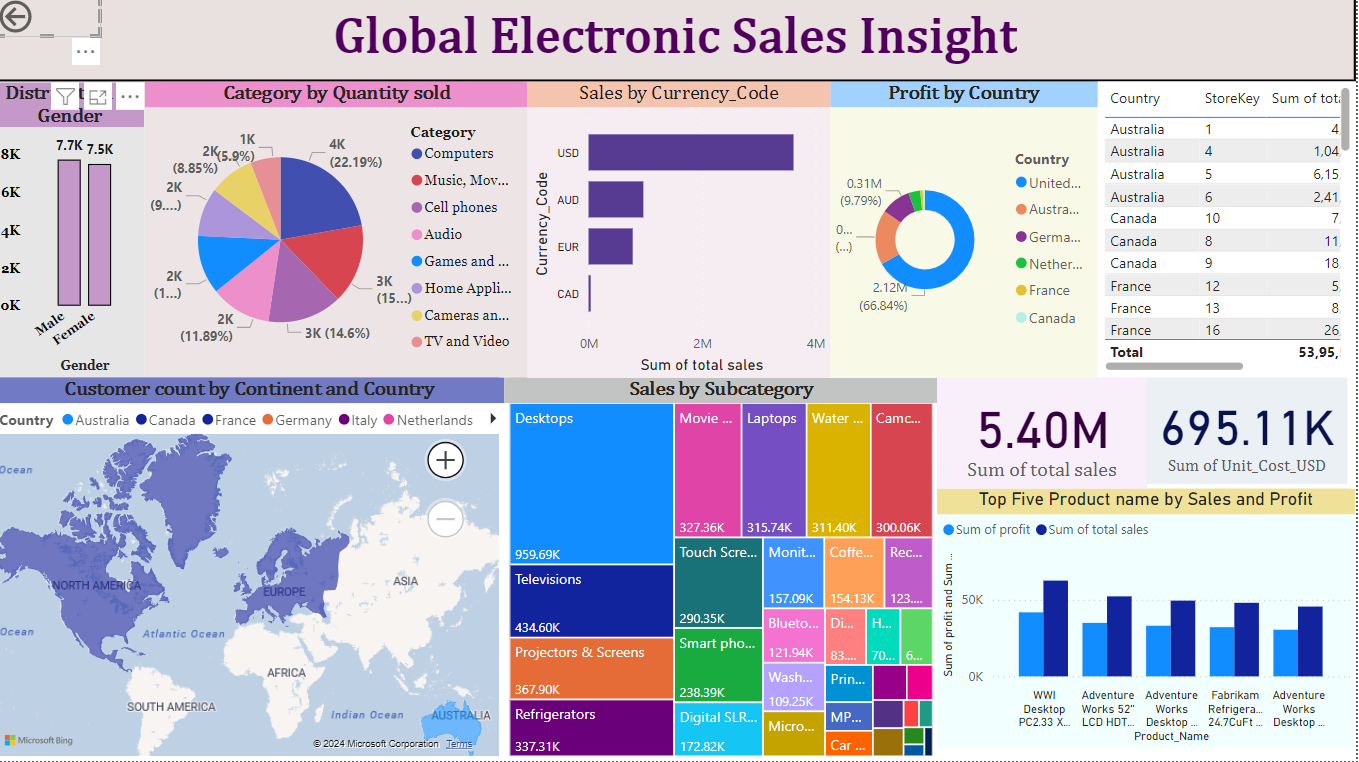

What the dashboard file says about the page in this screenshot:
{"tool":"powerbi","page":{"name":"Page 1","canvas":[1280,720],"ordinal":0},"visuals":[{"type":"columnChart","title":"Distribution of Gender  ","fields":{"Category":["cleaned_customers.Gender"],"Y":["cleaned_customers.count_gender"]},"box":[0,81.4,141.9,278.2],"z":0},{"type":"pieChart","title":" Category by Quantity sold","fields":{"Category":["merged_data1.Category"],"Y":["Sum(merged_data1.Quantity)"]},"box":[141.9,81.4,359.6,278.2],"z":1000},{"type":"treemap","title":"Sales by Subcategory","fields":{"Group":["merged_data1.Subcategory"],"Values":["Sum(merged_data1.total sales)"]},"box":[479.1,359.6,407.6,360.8],"z":2000},{"type":"filledMap","title":"Customer count by Continent and Country","fields":{"Category":["cleaned_customers.Continent"],"Series":["cleaned_customers.Country"]},"box":[0,359.6,479.5,360.7],"z":3000},{"type":"donutChart","title":"Profit by Country","fields":{"Category":["merged_data1.Country"],"Y":["Sum(merged_data1.profit)"]},"box":[785.7,81.3,252.5,278.3],"z":4000},{"type":"barChart","title":" Sales by Currency_Code","fields":{"Category":["merged_data1.Currency_Code"],"Y":["Sum(merged_data1.total sales)"]},"box":[501.2,81.3,284.5,278.3],"z":5000},{"type":"shape","box":[0,0,1280.2,81.4],"z":6000},{"type":"actionButton","box":[0,0,100,40],"z":7000},{"type":"clusteredColumnChart","title":"Top Five Product name by Sales and Profit","fields":{"Y":["Sum(merged_data1.profit)","Sum(merged_data1.total sales)"],"Category":["merged_data1.Product_Name"]},"box":[886.7,464.3,392.9,243.8],"z":8000},{"type":"tableEx","fields":{"Values":["merged_data1.Country","merged_data1.StoreKey","Sum(merged_data1.total sales)","Sum(merged_data1.Quantity)"]},"box":[1038.2,81.3,241.4,277.1],"z":9000},{"type":"card","fields":{"Values":["Sum(merged_data1.total sales)"]},"box":[886.7,359.6,197.1,104.7],"z":10000},{"type":"card","fields":{"Values":["Sum(merged_data1.Unit_Cost_USD)"]},"box":[1083.3,359.6,189.2,100.1],"z":11000}]}

Visuals, with their boxes on the page's 1280x720 design canvas (x1, y1, x2, y2). These are canvas units, not pixel positions in the 1359x762 screenshot, which may show the page scaled, cropped or inside an application window:
"Distribution of Gender  " columnChart: bbox(0, 81, 142, 360)
" Category by Quantity sold" pieChart: bbox(142, 81, 502, 360)
"Sales by Subcategory" treemap: bbox(479, 360, 887, 720)
"Customer count by Continent and Country" filledMap: bbox(0, 360, 480, 720)
"Profit by Country" donutChart: bbox(786, 81, 1038, 360)
" Sales by Currency_Code" barChart: bbox(501, 81, 786, 360)
shape: bbox(0, 0, 1280, 81)
actionButton: bbox(0, 0, 100, 40)
"Top Five Product name by Sales and Profit" clusteredColumnChart: bbox(887, 464, 1280, 708)
tableEx - merged_data1.Country x merged_data1.StoreKey: bbox(1038, 81, 1280, 358)
card - Sum(merged_data1.total sales): bbox(887, 360, 1084, 464)
card - Sum(merged_data1.Unit_Cost_USD): bbox(1083, 360, 1272, 460)
